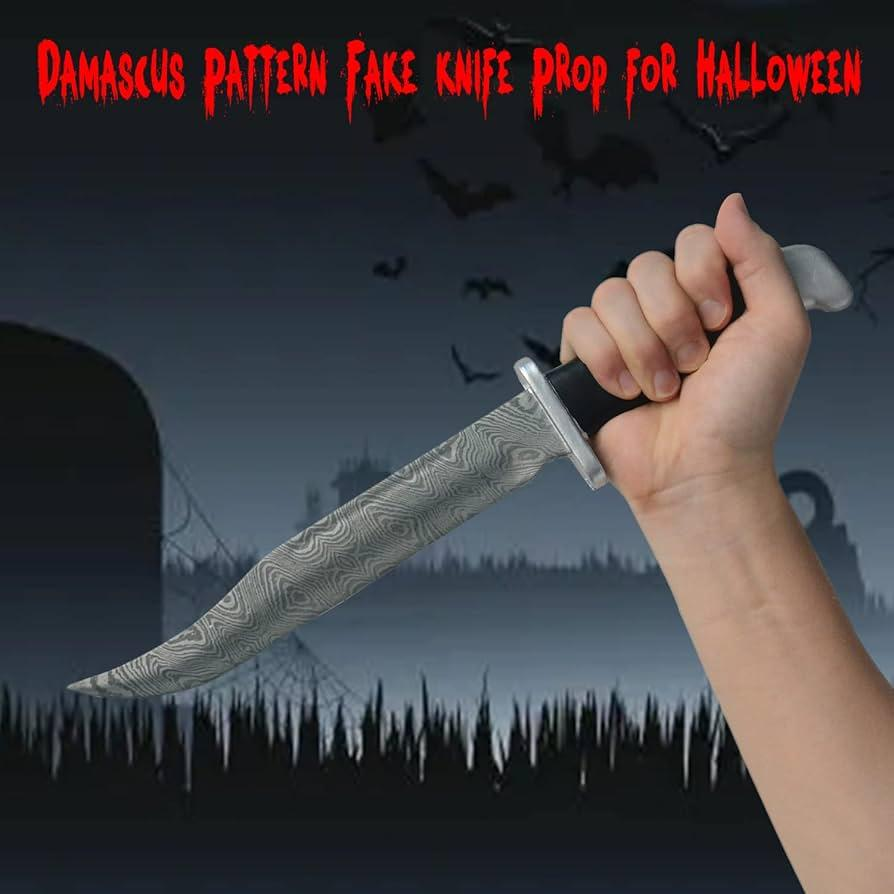Knife: (64, 239, 861, 706), (555, 194, 894, 894), (550, 194, 819, 506)
